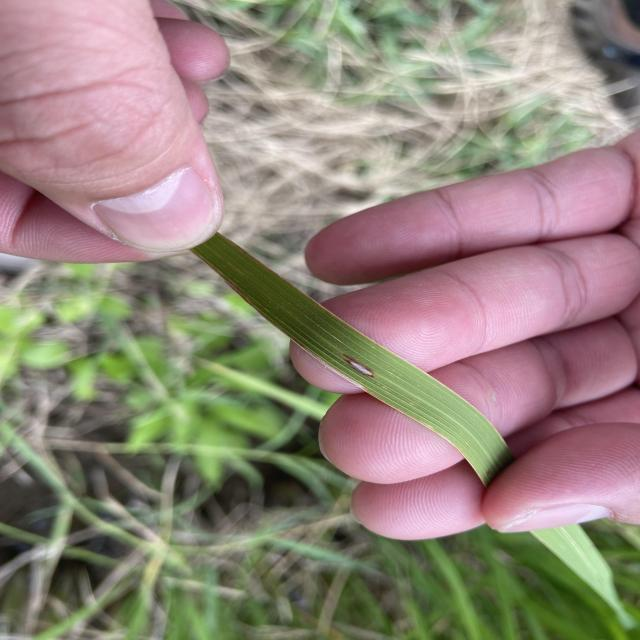Dao on: (344, 356, 374, 377)
